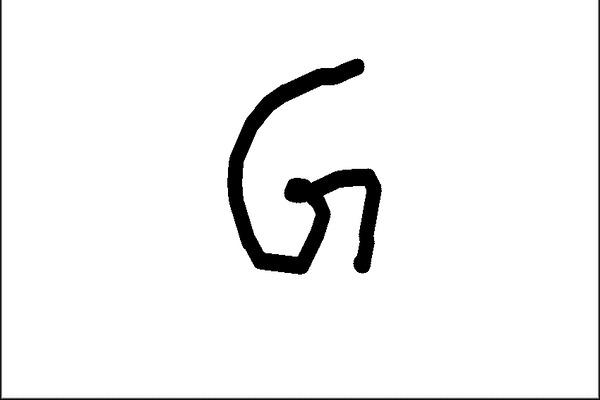G: (220, 53, 386, 280)
